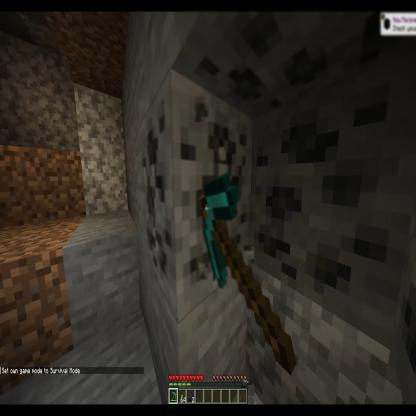coal ore: (250, 57, 398, 332), (182, 0, 416, 122), (140, 68, 252, 317)
